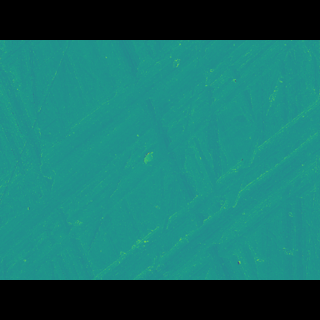Loch: (11, 83, 303, 241)
